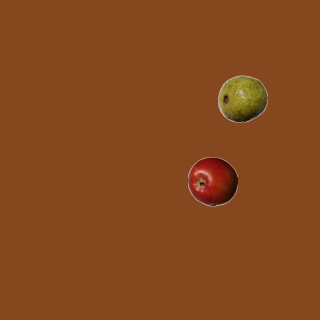Apple Braeburn: (187, 156, 237, 206)
Guava: (217, 73, 267, 123)
